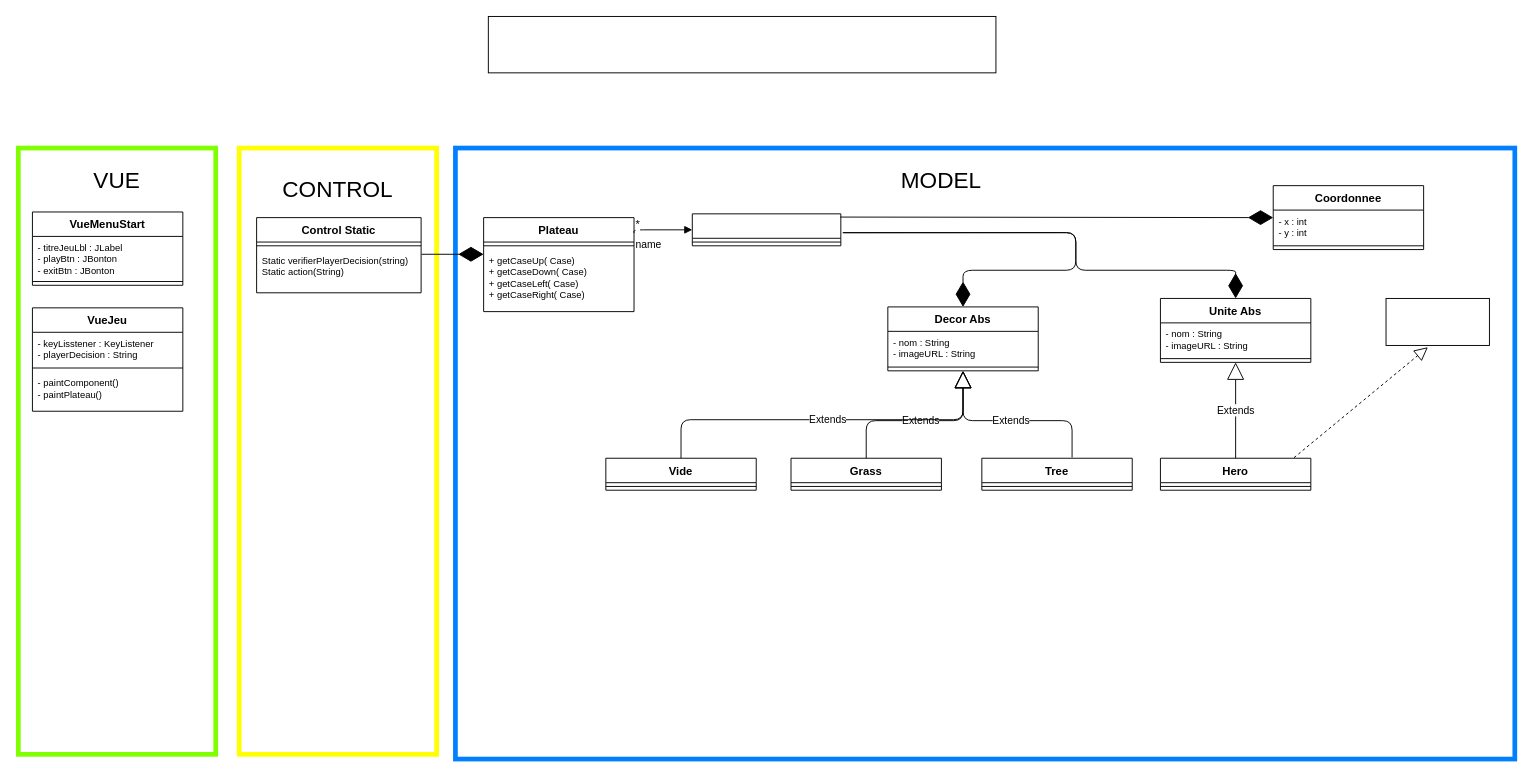
Some shapes in this 1533 by 777 pixel diagram are drawn without their labels. The shapes that lost their labels are listed below. From the top down, each one's centre as x and y in pixels, then its label:
At [741,44]: "Diagramme Classe Game Version 1".
At [766,229]: "Case".
At [1437,321]: "«interface» Move".
